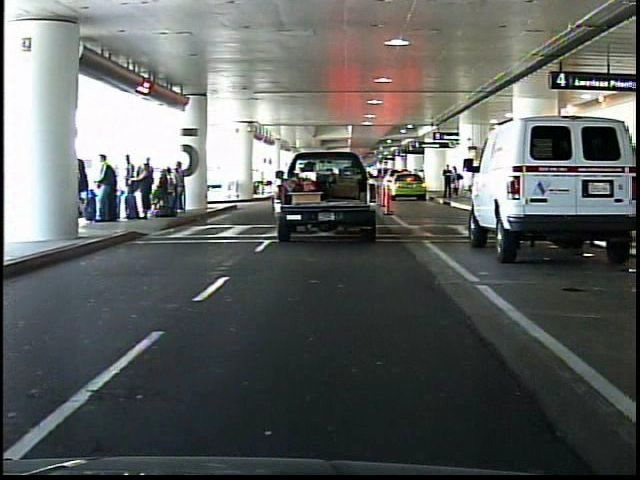person: (441, 164, 454, 201), (453, 165, 464, 203)
